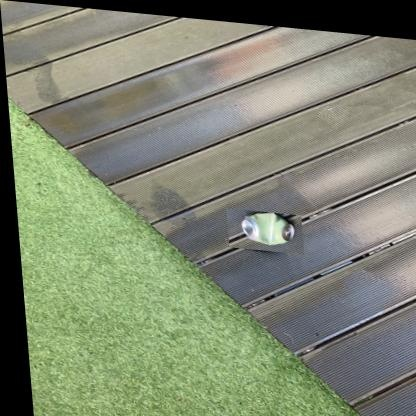trash: (241, 213, 294, 244)
